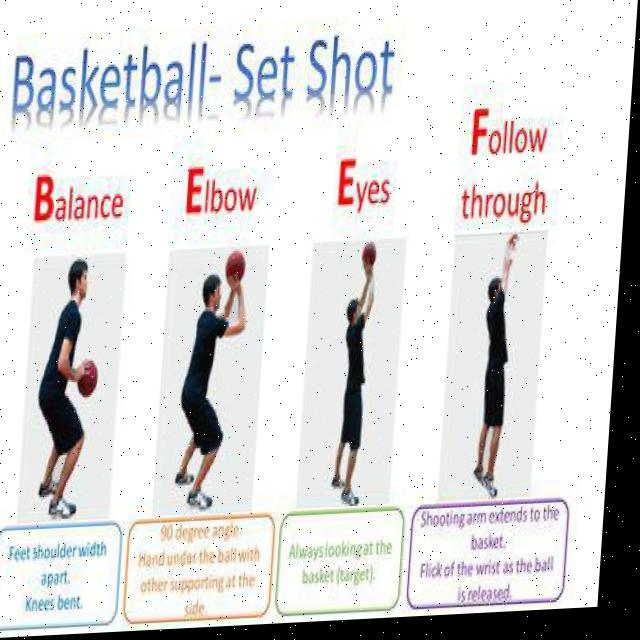basketball: (77, 360, 100, 399), (225, 249, 247, 286), (361, 242, 377, 269), (504, 234, 521, 259)
